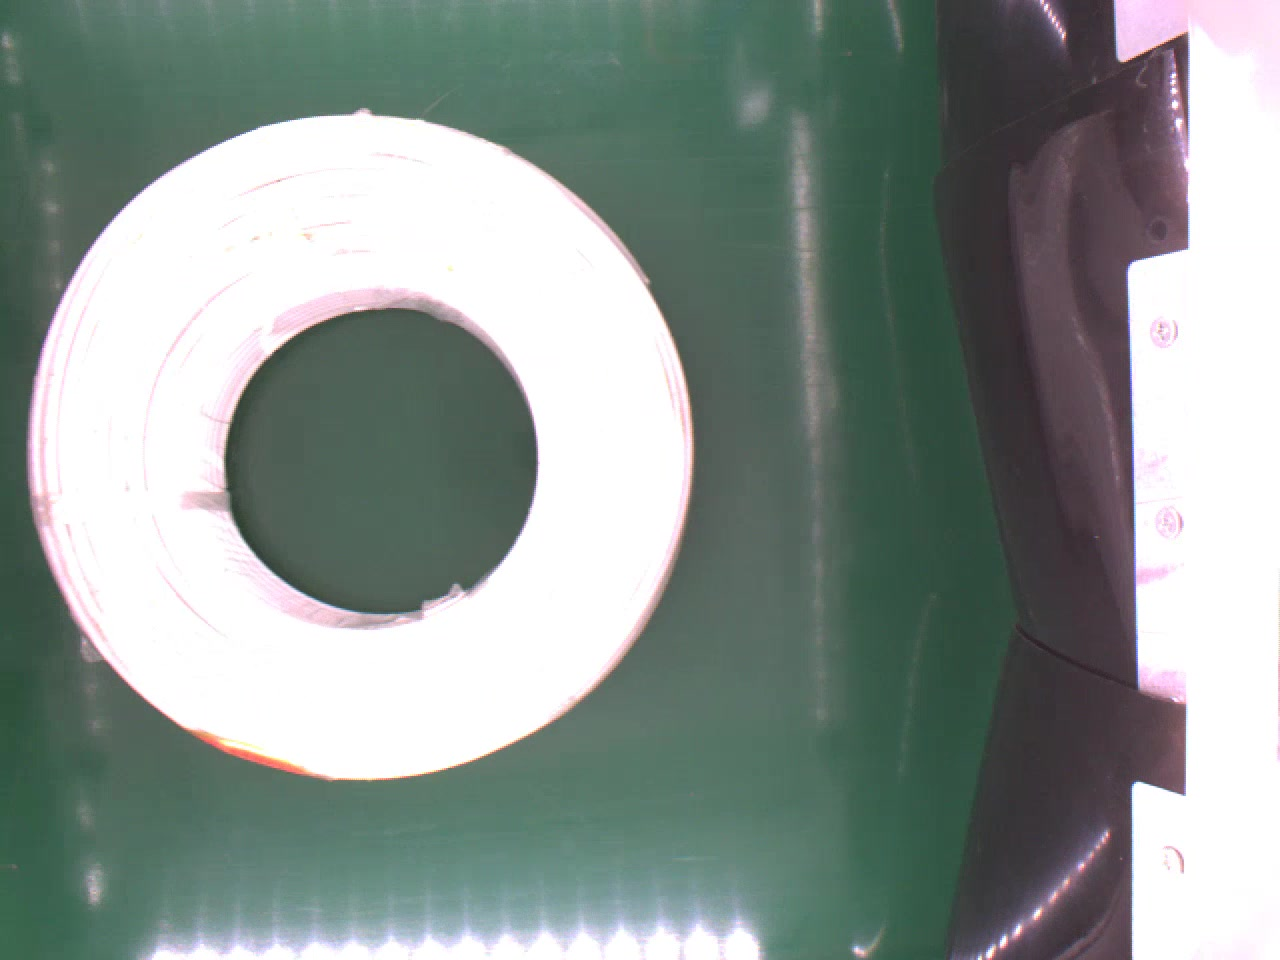white: (28, 109, 693, 794)
